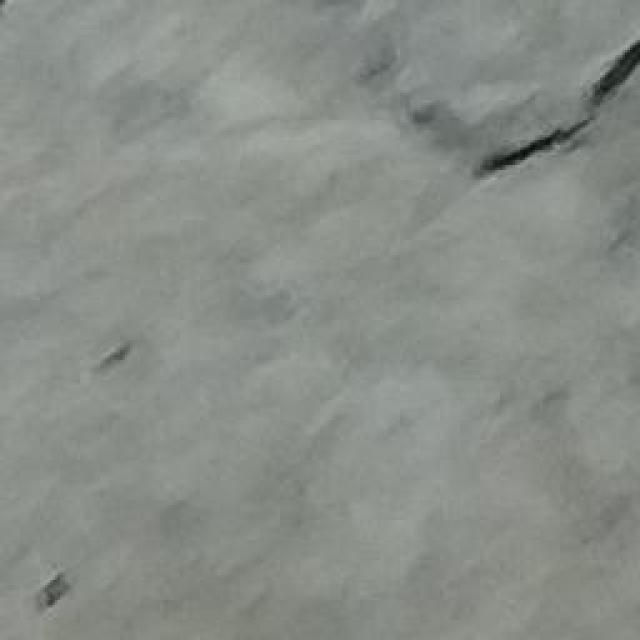Diagonal: (381, 18, 640, 196)
